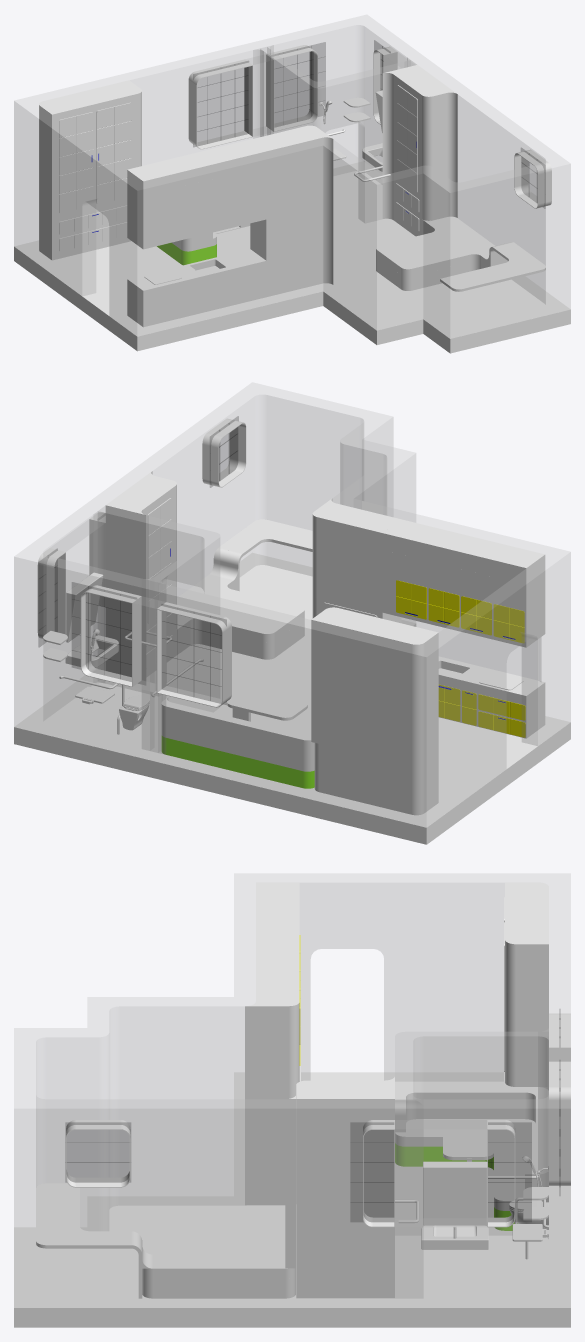
Rendered from mobility typeA OptionB.glb.
3 views of the same model, one above another, from view 1: azimuth 30°, elevation 25°; view 2: azimuth 150°, elevation 25°; view 3: azimuth 270°, elevation 25° (orthographic). The views are drawn at different scales.
Visible parts, largest first — view 1: 墙面, floor, 橱柜，木制或者整体性强的材质, 衣柜，木制或者整体性强的材质, 衣柜柜门（木板）, 玻璃, 窗框（金属）, 床（软包，软垫，皮纹细腻）, 木板, 床（硬边）, 沙发硬边, 沙发（软包，软垫，皮纹细腻）; view 2: 墙面, floor, 衣柜，木制或者整体性强的材质, 橱柜，木制或者整体性强的材质, 窗框（金属）, 玻璃, 柜门，区别于整体的柜子, 沙发（软包，软垫，皮纹细腻）, 床（软包，软垫，皮纹细腻）, 衣柜柜门（木板）, 沙发硬边, 木板 (+6 smaller); view 3: 墙面, floor, 衣柜，木制或者整体性强的材质, 橱柜，木制或者整体性强的材质, 玻璃, 沙发（软包，软垫，皮纹细腻）, 床（软包，软垫，皮纹细腻）, 窗框（金属）, 镜子（玻璃, 木板, 床（硬边）, 客厅桌子（木板） (+4 smaller).
Boxes of the visible parts, x1,y1,x2,y2 form: 墙面: [14, 15, 570, 338]; floor: [14, 160, 570, 353]; 橱柜，木制或者整体性强的材质: [127, 125, 333, 327]; 衣柜，木制或者整体性强的材质: [39, 65, 457, 260]; 衣柜柜门（木板）: [59, 85, 419, 251]; 玻璃: [193, 40, 541, 202]; 窗框（金属）: [188, 45, 551, 208]; 床（软包，软垫，皮纹细腻）: [376, 216, 494, 276]; 木板: [440, 242, 545, 291]; 床（硬边）: [376, 230, 486, 290]; 沙发硬边: [157, 242, 216, 265]; 沙发（软包，软垫，皮纹细腻）: [172, 232, 216, 251]; 墙面: [14, 382, 570, 827]; floor: [14, 552, 570, 844]; 衣柜，木制或者整体性强的材质: [105, 471, 438, 815]; 橱柜，木制或者整体性强的材质: [312, 498, 545, 738]; 窗框（金属）: [37, 418, 246, 707]; 玻璃: [38, 416, 238, 704]; 柜门，区别于整体的柜子: [396, 580, 525, 737]; 沙发（软包，软垫，皮纹细腻）: [161, 697, 314, 771]; 床（软包，软垫，皮纹细腻）: [177, 563, 304, 642]; 衣柜柜门（木板）: [146, 498, 173, 668]; 沙发硬边: [161, 736, 314, 788]; 木板: [213, 519, 312, 591]; 墙面: [14, 873, 570, 1307]; floor: [14, 1072, 570, 1327]; 衣柜，木制或者整体性强的材质: [285, 882, 548, 1298]; 橱柜，木制或者整体性强的材质: [245, 882, 299, 1205]; 玻璃: [65, 1018, 560, 1221]; 沙发（软包，软垫，皮纹细腻）: [395, 1087, 548, 1210]; 床（软包，软垫，皮纹细腻）: [142, 1206, 295, 1278]; 窗框（金属）: [66, 1013, 570, 1227]; 镜子（玻璃: [423, 1161, 487, 1225]; 木板: [36, 1183, 142, 1298]; 床（硬边）: [142, 1275, 295, 1298]; 客厅桌子（木板）: [443, 1119, 493, 1160].
Size of the model in its own units: 7.6 by 3.3 by 7.6.
